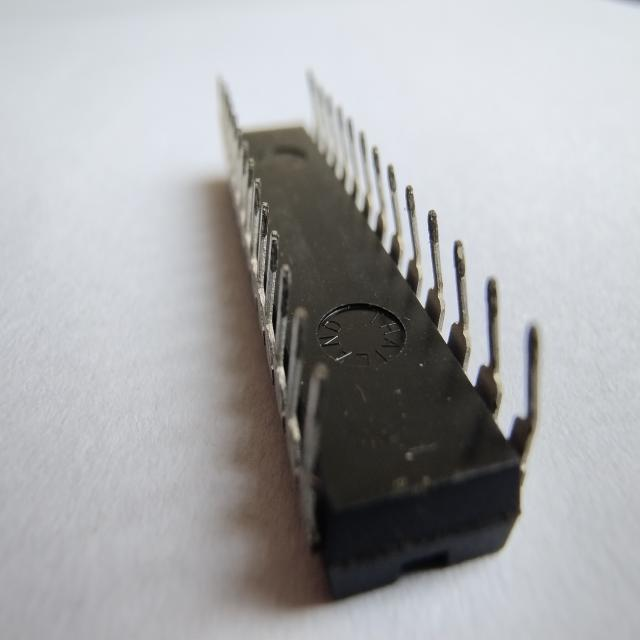atmega: (213, 66, 542, 602)
